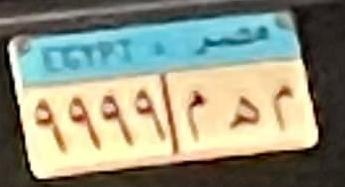9: (68, 82, 101, 154), (135, 79, 164, 148), (104, 83, 135, 146), (35, 88, 64, 155)
م: (181, 73, 216, 145), (263, 68, 298, 138)
ه: (227, 88, 262, 139)
